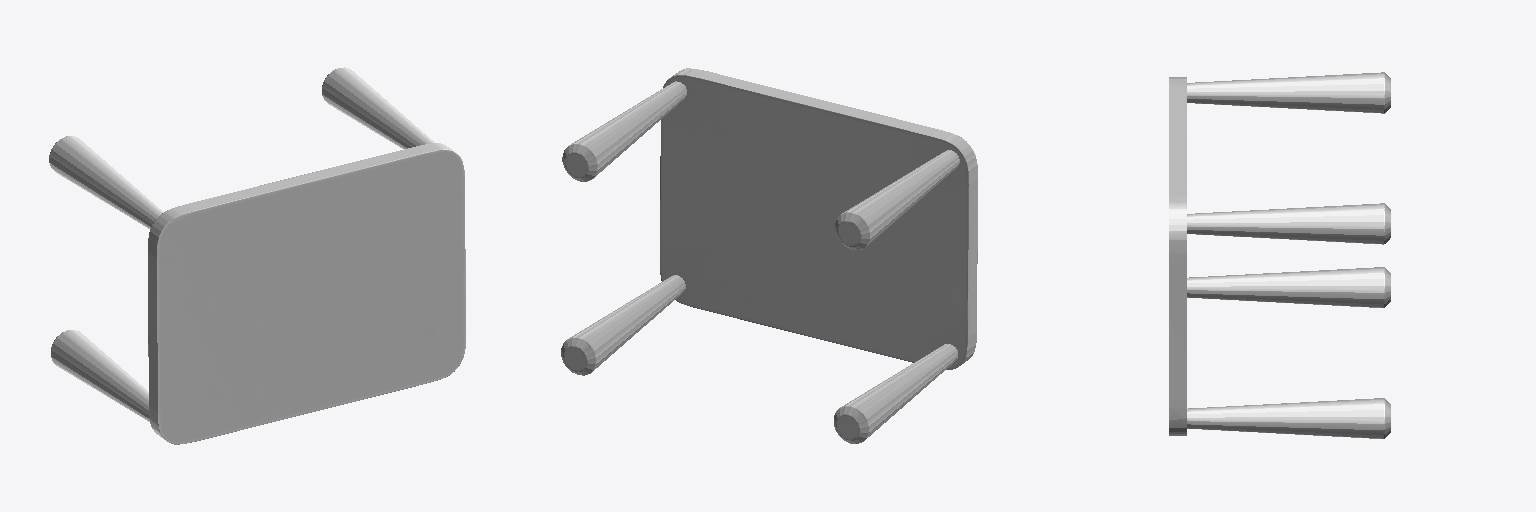
3 views of the same model, side by side, from view 1: azimuth 30°, elevation 25°; view 2: azimuth 150°, elevation 25°; view 3: azimuth 270°, elevation 25° (orthographic).
Size of the model in its own units: 0.6823 by 0.4931 by 0.4246.
Materials: 1 (1 with a texture image).